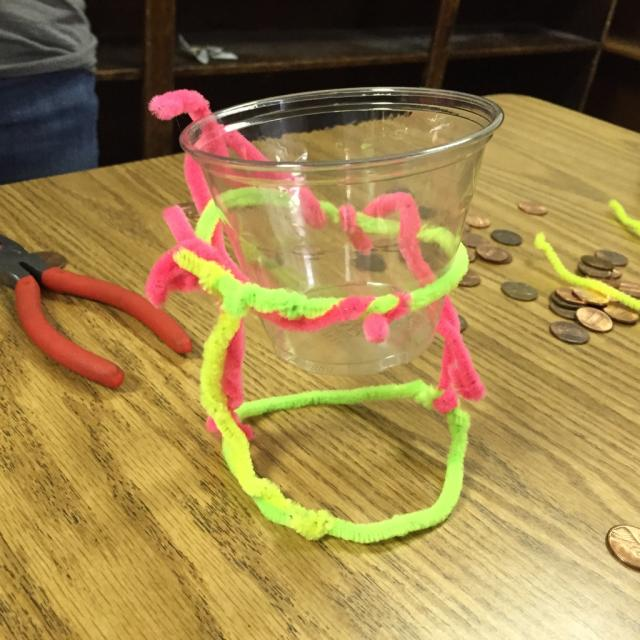Coin: (366, 188, 442, 284), (606, 521, 640, 572), (574, 307, 614, 332), (502, 278, 539, 305), (548, 322, 591, 345), (602, 300, 640, 323), (250, 246, 284, 270), (574, 285, 610, 305), (593, 250, 630, 269), (458, 228, 490, 249), (353, 252, 389, 270), (289, 239, 326, 256), (550, 298, 578, 320), (456, 266, 482, 289), (556, 283, 587, 302), (578, 260, 614, 276), (582, 252, 612, 271), (490, 228, 521, 246), (548, 292, 578, 310), (478, 246, 505, 263), (587, 276, 621, 289), (519, 201, 548, 215), (620, 280, 640, 300), (462, 213, 488, 228), (178, 199, 198, 215), (606, 266, 627, 281), (493, 250, 517, 263), (458, 312, 469, 335), (466, 248, 478, 263)
